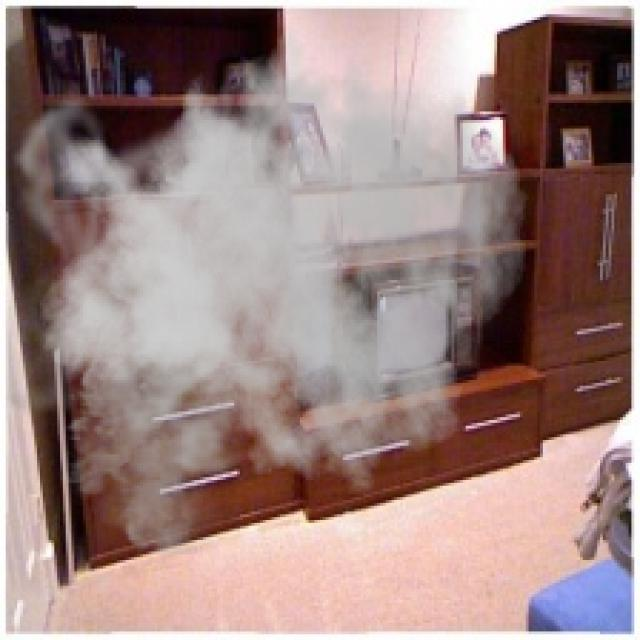smoke: (5, 0, 529, 555)
